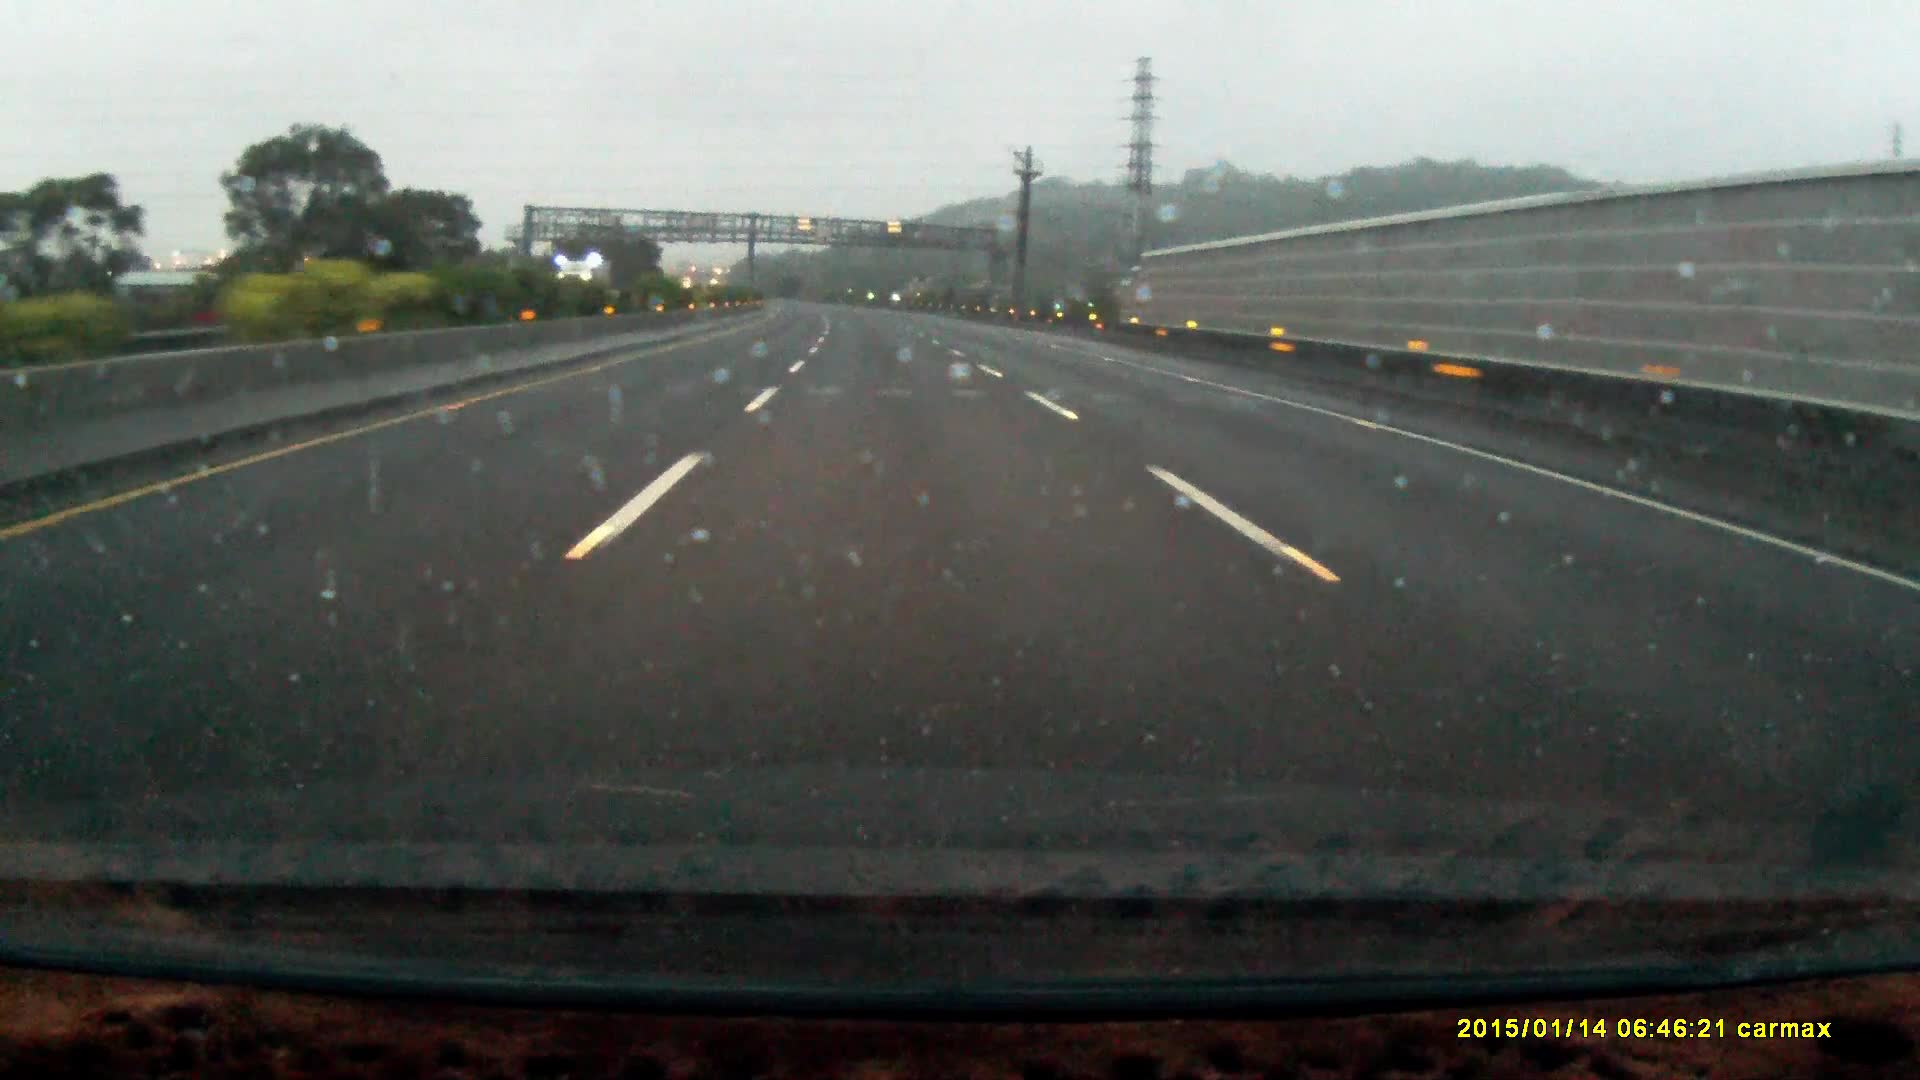vehicle: (555, 260, 609, 315)
